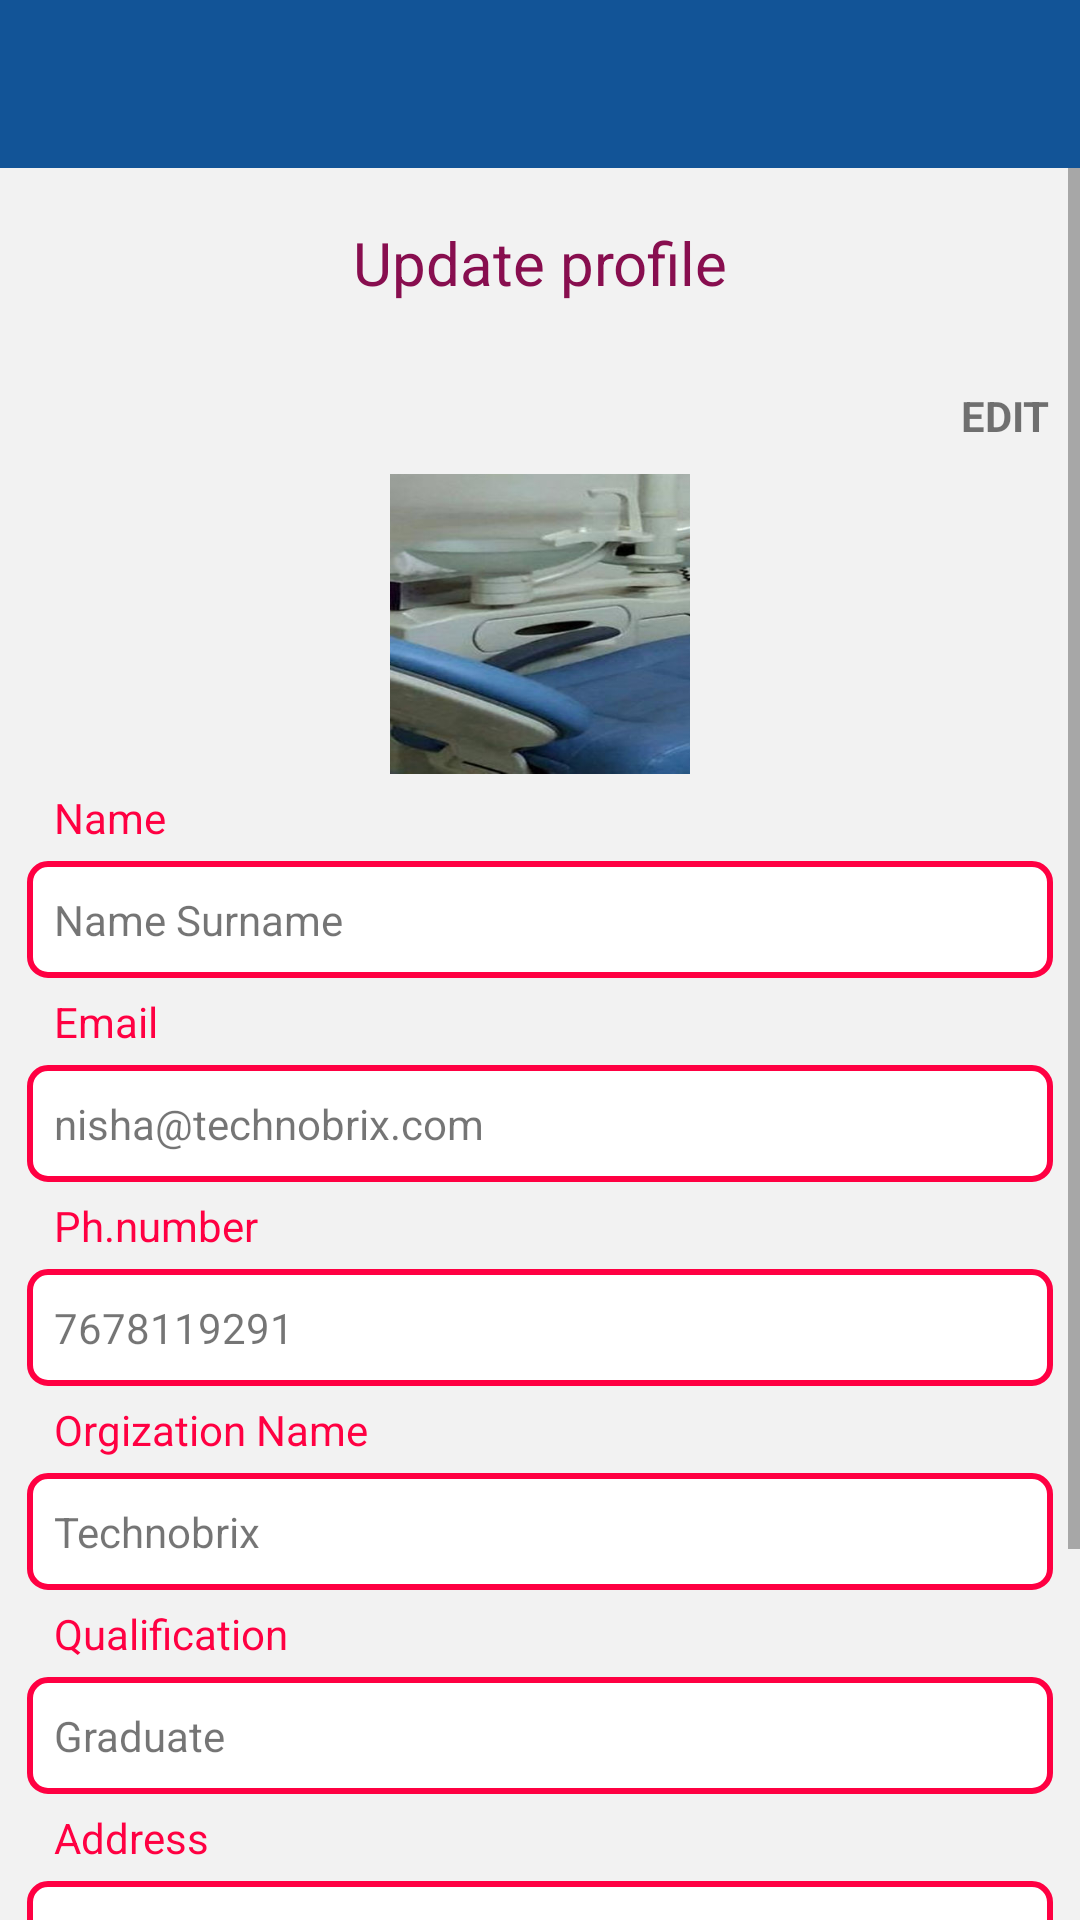

Locate icon controls on the screen. Image size 1080×1920, boxes as (x1, y1, x2, y2).
dental: (390, 474, 690, 774)
